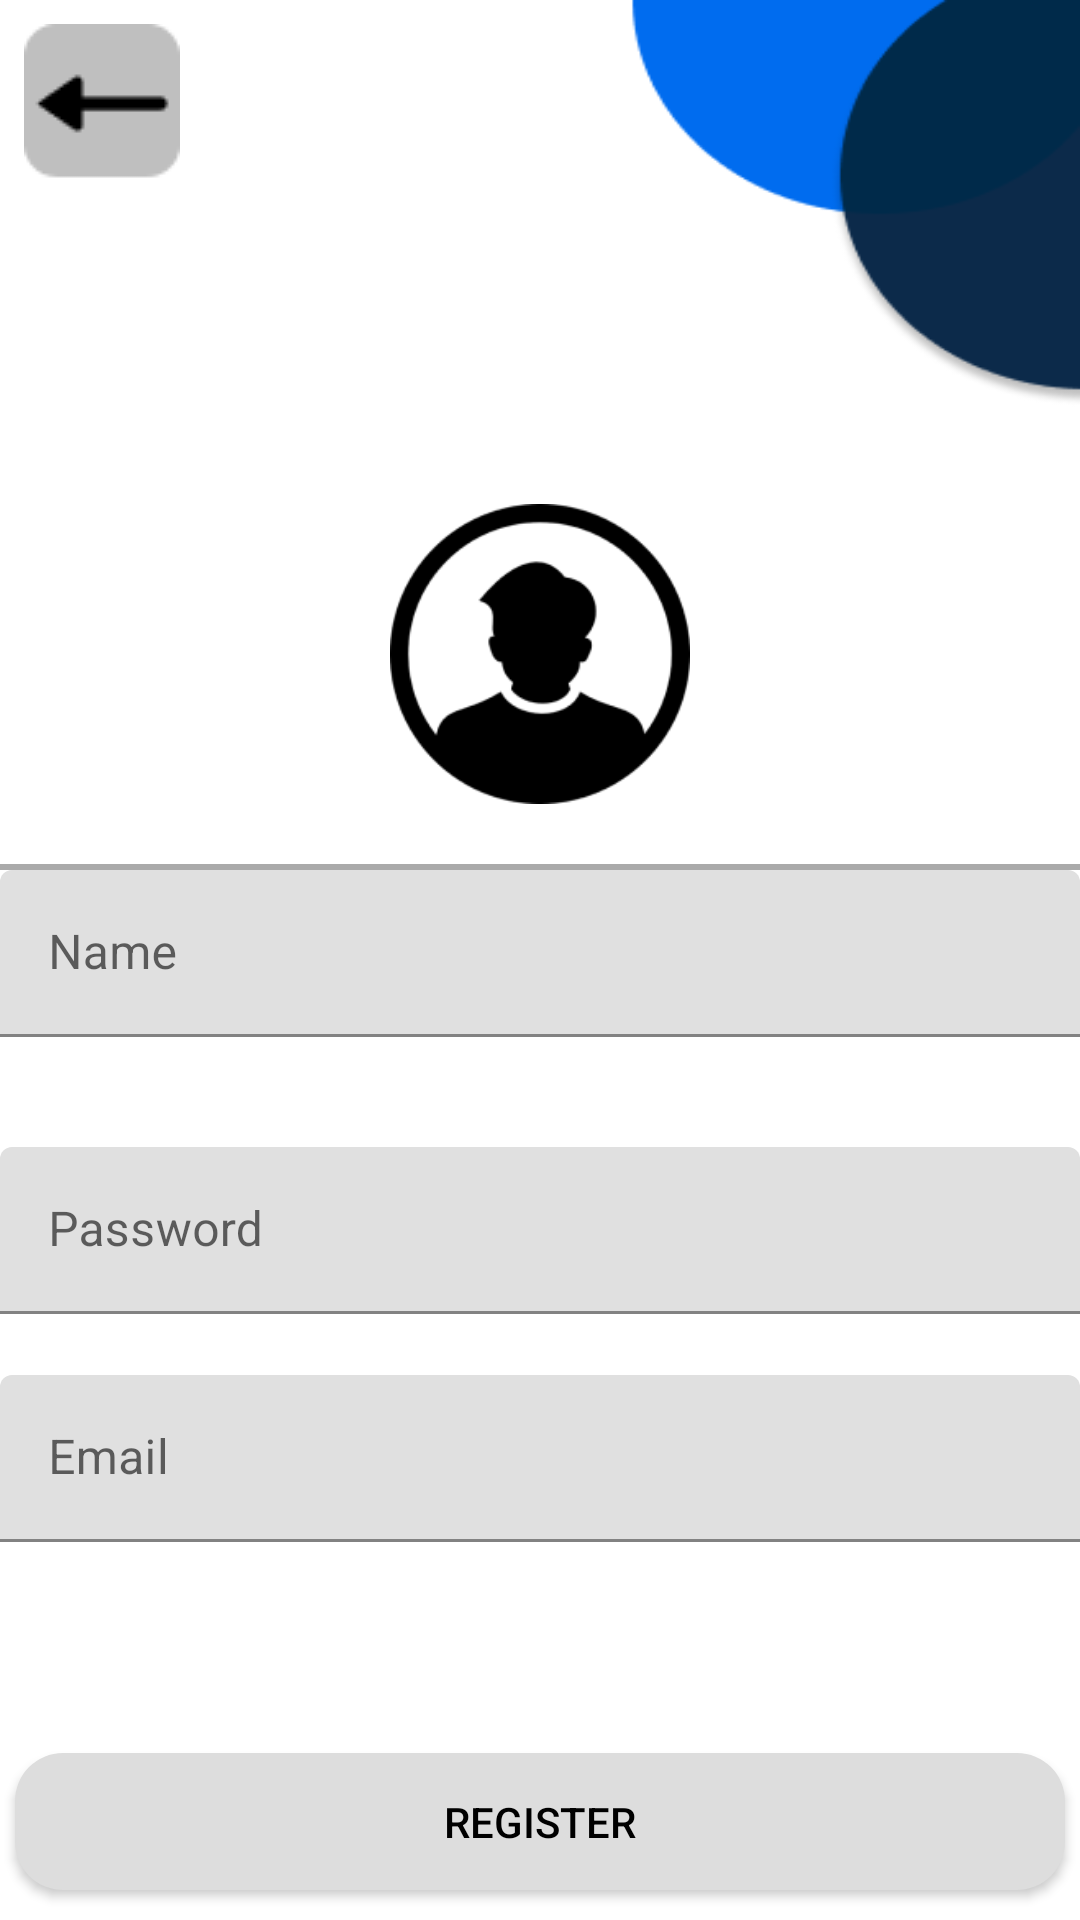

Where icons sit on this 1080 x 1920 app screen, as (x1, y1, x2, y2):
backbutton: (24, 24, 180, 177)
profile picture: (390, 504, 690, 804)
